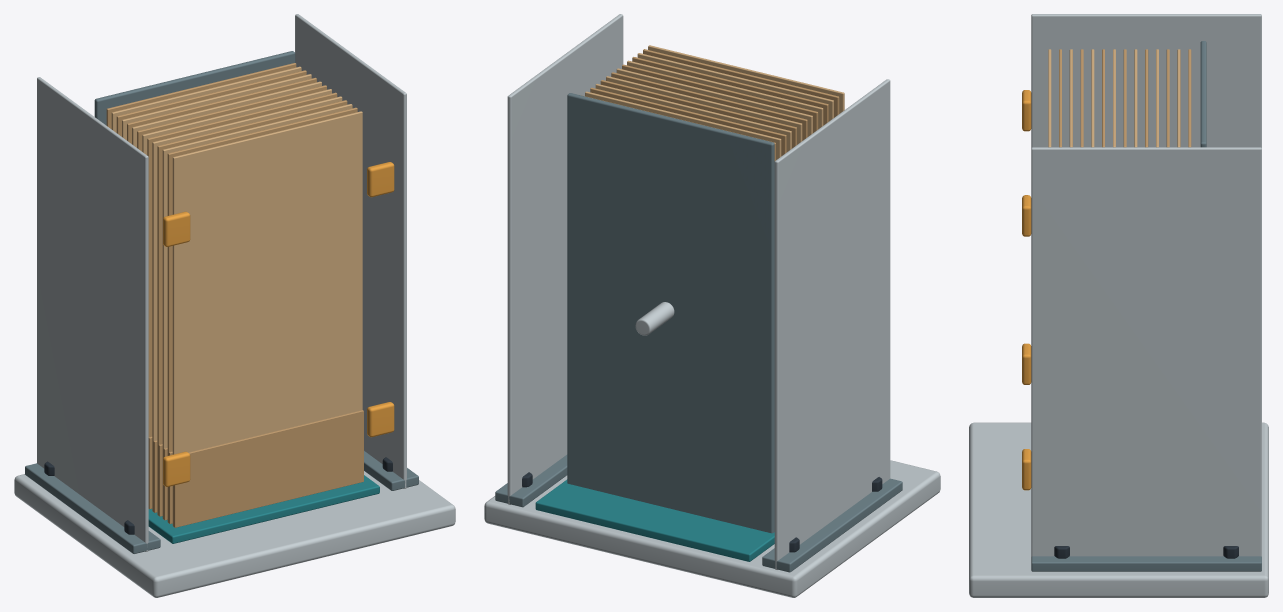
The model's file is magazine.glb.
3 renders of one model, left to right at view 1: azimuth 30°, elevation 25°; view 2: azimuth 150°, elevation 25°; view 3: azimuth 270°, elevation 25°, orthographic. The views are drawn at different scales.
Parts seen in each view (by area): view 1: Stored flat bag 01.001, Magazine adjustable side guide.002, Magazine adjustable side guide.003, Magazine bolted base.001, Stored bottom fold 01.001, Magazine bottom runner.001, Stored flat bag 05.001, Stored flat bag 04.001, Light spring follower.001, Stored flat bag 03.001, Stored flat bag 02.001, Stored flat bag 06.001 (+14 smaller); view 2: Light spring follower.001, Magazine adjustable side guide.002, Magazine adjustable side guide.003, Magazine bolted base.001, Magazine bottom runner.001, Magazine slotted foot.002, Magazine slotted foot.003, Stored flat bag 07.001, Stored flat bag 01.001, Stored flat bag 04.001, Stored flat bag 08.001, Stored flat bag 11.001 (+9 smaller); view 3: Magazine adjustable side guide.003, Magazine adjustable side guide.002, Magazine bolted base.001, Magazine slotted foot.003, Light spring follower.001, Flexible singulation tab.007, Flexible singulation tab.004, Flexible singulation tab.005, Flexible singulation tab.006.
Boxes of the visible parts, bbox=[...] form: Stored flat bag 01.001: bbox=[172, 111, 362, 525]; Magazine adjustable side guide.002: bbox=[37, 77, 148, 551]; Magazine adjustable side guide.003: bbox=[295, 14, 406, 488]; Magazine bolted base.001: bbox=[14, 471, 455, 597]; Stored bottom fold 01.001: bbox=[173, 410, 363, 527]; Magazine bottom runner.001: bbox=[148, 475, 379, 543]; Stored flat bag 05.001: bbox=[152, 96, 342, 510]; Stored flat bag 04.001: bbox=[157, 100, 347, 514]; Light spring follower.001: bbox=[94, 51, 295, 125]; Stored flat bag 03.001: bbox=[162, 104, 352, 518]; Stored flat bag 02.001: bbox=[167, 107, 357, 522]; Stored flat bag 06.001: bbox=[147, 92, 337, 437]; Light spring follower.001: bbox=[567, 93, 774, 533]; Magazine adjustable side guide.002: bbox=[774, 79, 890, 569]; Magazine adjustable side guide.003: bbox=[507, 14, 623, 504]; Magazine bolted base.001: bbox=[484, 460, 940, 597]; Magazine bottom runner.001: bbox=[535, 479, 774, 561]; Magazine slotted foot.002: bbox=[762, 478, 902, 572]; Magazine slotted foot.003: bbox=[495, 454, 567, 507]; Stored flat bag 07.001: bbox=[616, 68, 812, 136]; Stored flat bag 01.001: bbox=[648, 45, 844, 113]; Stored flat bag 04.001: bbox=[632, 57, 828, 125]; Stored flat bag 08.001: bbox=[611, 72, 807, 140]; Stored flat bag 11.001: bbox=[595, 84, 791, 151]; Magazine adjustable side guide.003: bbox=[1031, 147, 1261, 556]; Magazine adjustable side guide.002: bbox=[1031, 14, 1261, 147]; Magazine bolted base.001: bbox=[969, 422, 1268, 597]; Magazine slotted foot.003: bbox=[1031, 556, 1261, 571]; Light spring follower.001: bbox=[1200, 41, 1206, 147]; Flexible singulation tab.007: bbox=[1022, 195, 1031, 236]; Flexible singulation tab.004: bbox=[1022, 343, 1031, 384]; Flexible singulation tab.005: bbox=[1022, 90, 1031, 131]; Flexible singulation tab.006: bbox=[1022, 449, 1031, 490].
Bounding box in the file's own units: 0.24 × 0.316 × 0.195.
